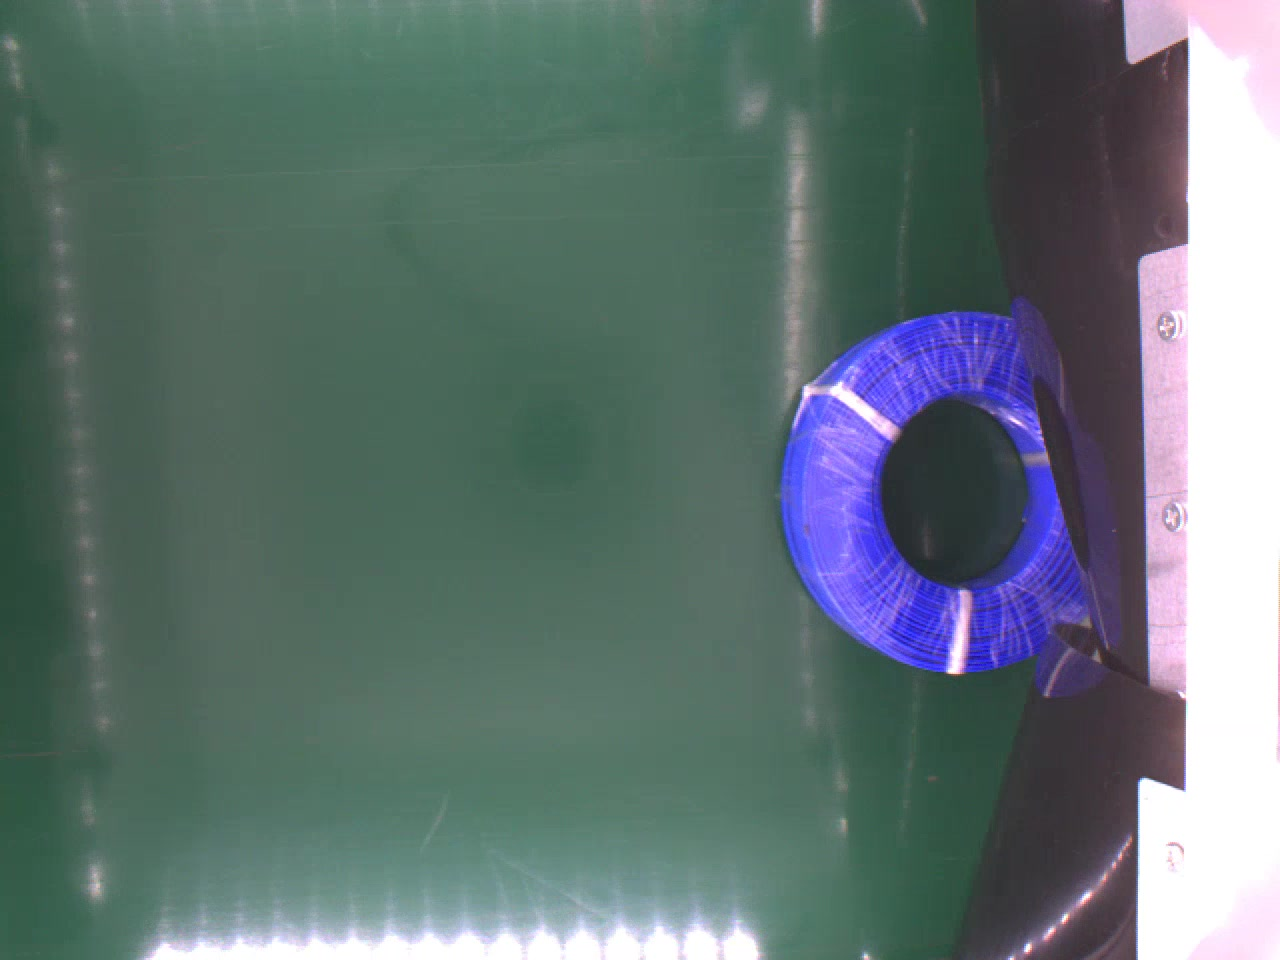blue: (781, 309, 1090, 674)
